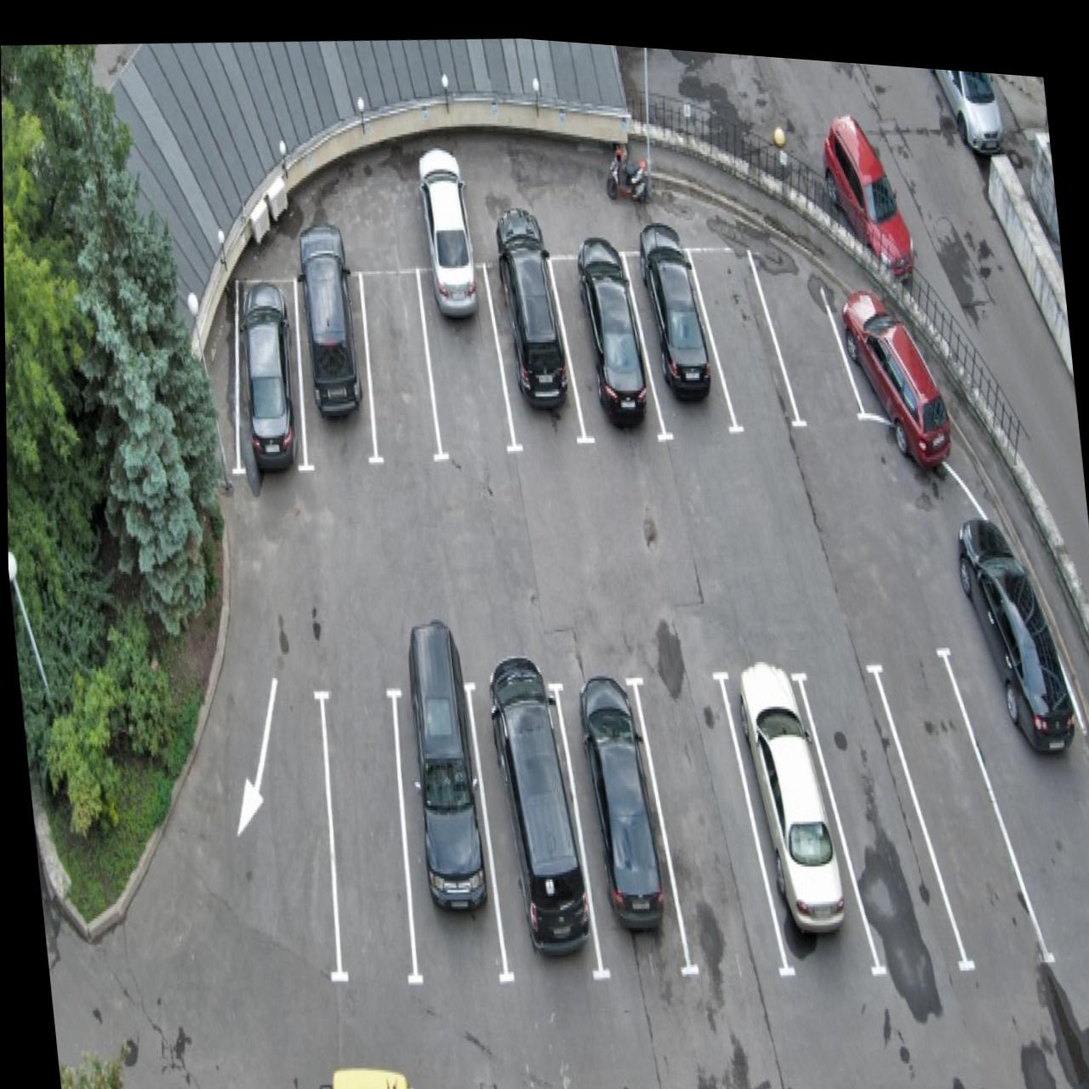cars: (742, 672, 877, 981), (475, 664, 598, 987), (390, 679, 505, 987), (578, 664, 679, 970), (622, 227, 741, 464), (554, 248, 665, 458), (220, 262, 320, 489), (294, 251, 379, 487), (484, 253, 584, 448), (424, 252, 511, 451)
empty: (801, 669, 967, 989), (885, 654, 1039, 974), (656, 661, 781, 971), (306, 676, 424, 992), (753, 215, 862, 448), (688, 235, 802, 446), (361, 267, 443, 465)
